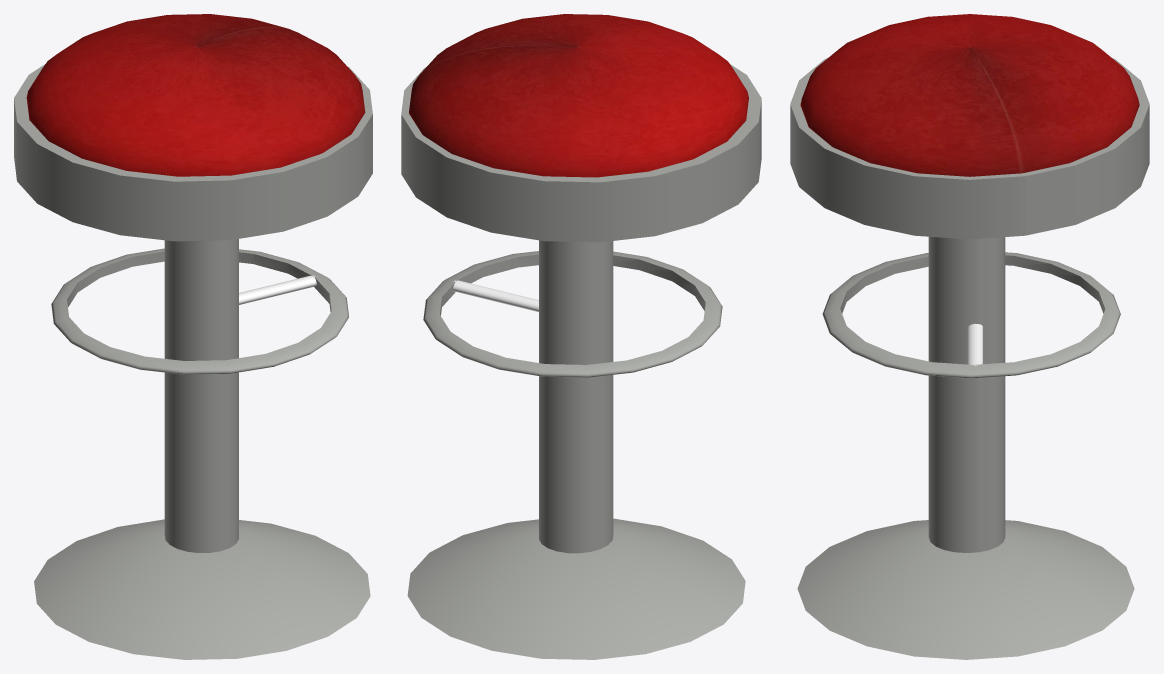
File: SillaComp.obj
The picture shows the model from 3 angles, left to right: view 1: azimuth 30°, elevation 25°; view 2: azimuth 150°, elevation 25°; view 3: azimuth 270°, elevation 25°; orthographic projection.
Parts seen in each view (by area): view 1: SillaArribaRed:pSphere1, SillaAbajoRed:pCone1, SillaAbajoRed:pCylinder4, SillaAbajoRed:pCylinder1, SillaAbajoRed:polySurface1, SillaAbajoRed:pCylinder3; view 2: SillaArribaRed:pSphere1, SillaAbajoRed:pCone1, SillaAbajoRed:pCylinder4, SillaAbajoRed:pCylinder1, SillaAbajoRed:polySurface1, SillaAbajoRed:pCylinder3; view 3: SillaArribaRed:pSphere1, SillaAbajoRed:pCone1, SillaAbajoRed:pCylinder4, SillaAbajoRed:pCylinder1, SillaAbajoRed:polySurface1, SillaAbajoRed:pCylinder3.
Boxes of the visible parts, x1,y1,x2,y2 form: SillaArribaRed:pSphere1: (26, 14, 365, 176); SillaAbajoRed:pCone1: (34, 519, 370, 659); SillaAbajoRed:pCylinder4: (14, 64, 372, 241); SillaAbajoRed:pCylinder1: (164, 239, 238, 552); SillaAbajoRed:polySurface1: (51, 248, 348, 374); SillaAbajoRed:pCylinder3: (239, 275, 316, 304); SillaArribaRed:pSphere1: (409, 14, 748, 177); SillaAbajoRed:pCone1: (407, 518, 745, 659); SillaAbajoRed:pCylinder4: (401, 64, 761, 242); SillaAbajoRed:pCylinder1: (539, 240, 613, 553); SillaAbajoRed:polySurface1: (423, 251, 722, 377); SillaAbajoRed:pCylinder3: (453, 280, 538, 311); SillaArribaRed:pSphere1: (800, 14, 1139, 176); SillaAbajoRed:pCone1: (797, 520, 1134, 659); SillaAbajoRed:pCylinder4: (790, 58, 1149, 239); SillaAbajoRed:pCylinder1: (928, 236, 1005, 552); SillaAbajoRed:polySurface1: (822, 252, 1120, 378); SillaAbajoRed:pCylinder3: (967, 323, 982, 365).
Size of the model in its own units: 0.3911 by 0.6476 by 0.3911.
3 materials, 3 textured.
